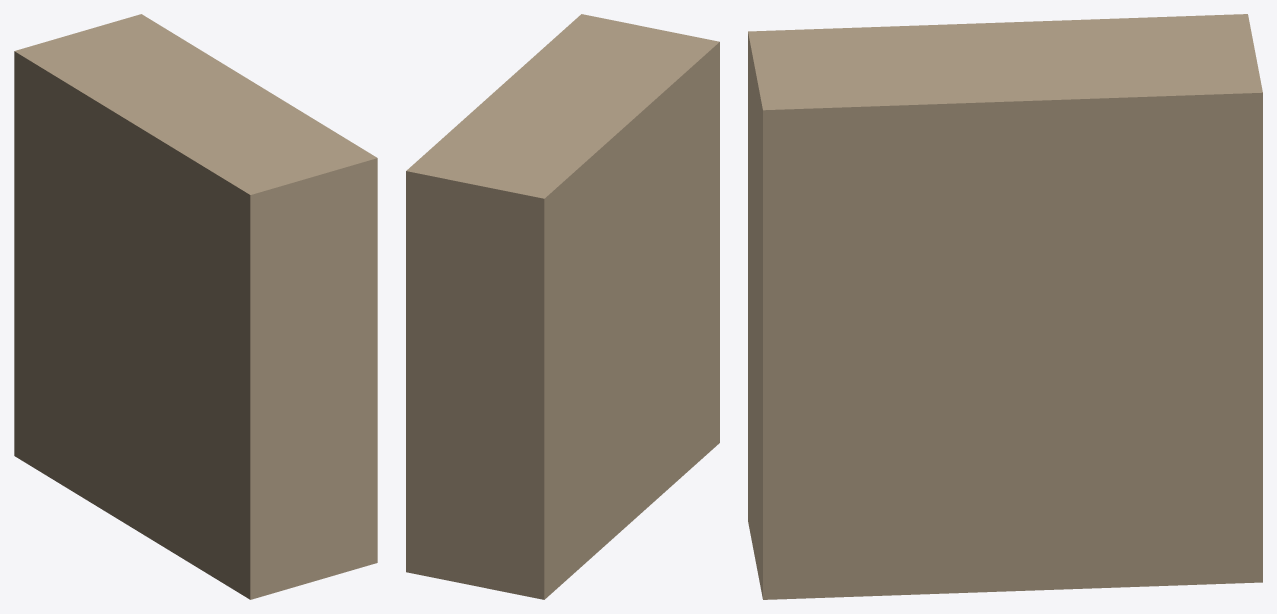
The model's file is bld_393483722.dae.
3 views of the same model, side by side, from view 1: azimuth 30°, elevation 25°; view 2: azimuth 150°, elevation 25°; view 3: azimuth 270°, elevation 25° (orthographic). The views are drawn at different scales.
Visible parts, largest first — view 1: bld_393483722; view 2: bld_393483722; view 3: bld_393483722.
Boxes of the visible parts, box(x1,y1,x2,y2) form: bld_393483722: box(14, 14, 377, 599); bld_393483722: box(406, 14, 719, 599); bld_393483722: box(748, 14, 1262, 599).
Size of the model in its own units: 3.37 by 7.62 by 8.
